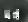person: (5, 8, 11, 18), (14, 10, 19, 21), (9, 9, 13, 19)
